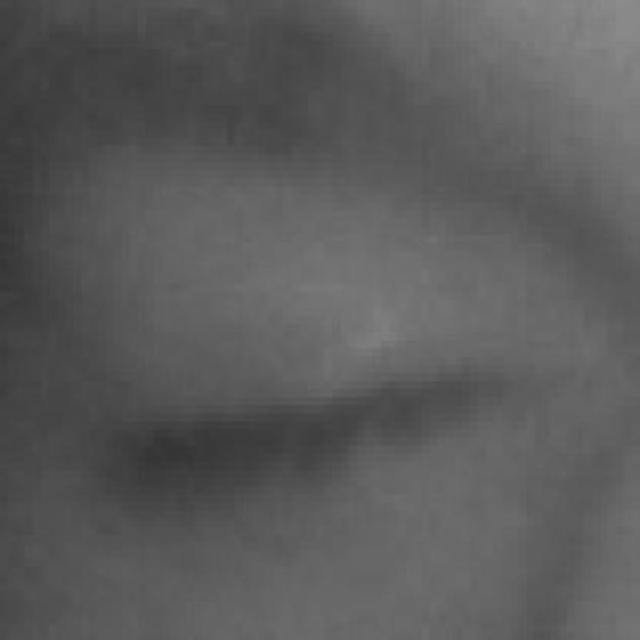drowsy: (105, 235, 510, 632)
